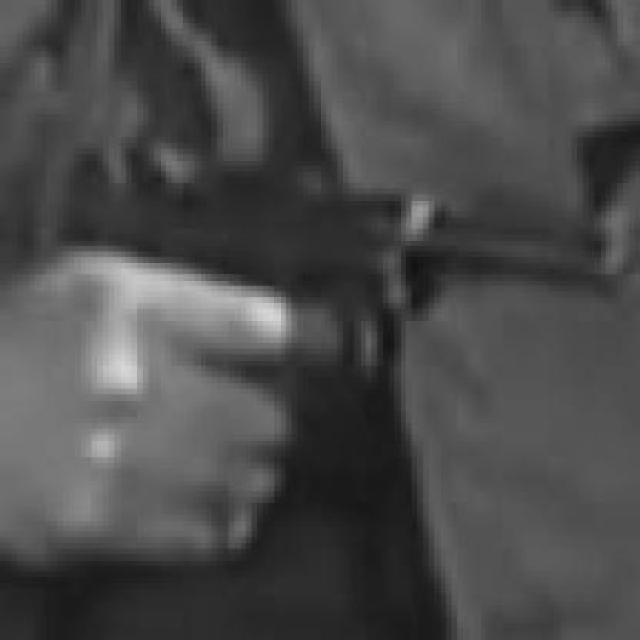rifle: (42, 138, 618, 384)
